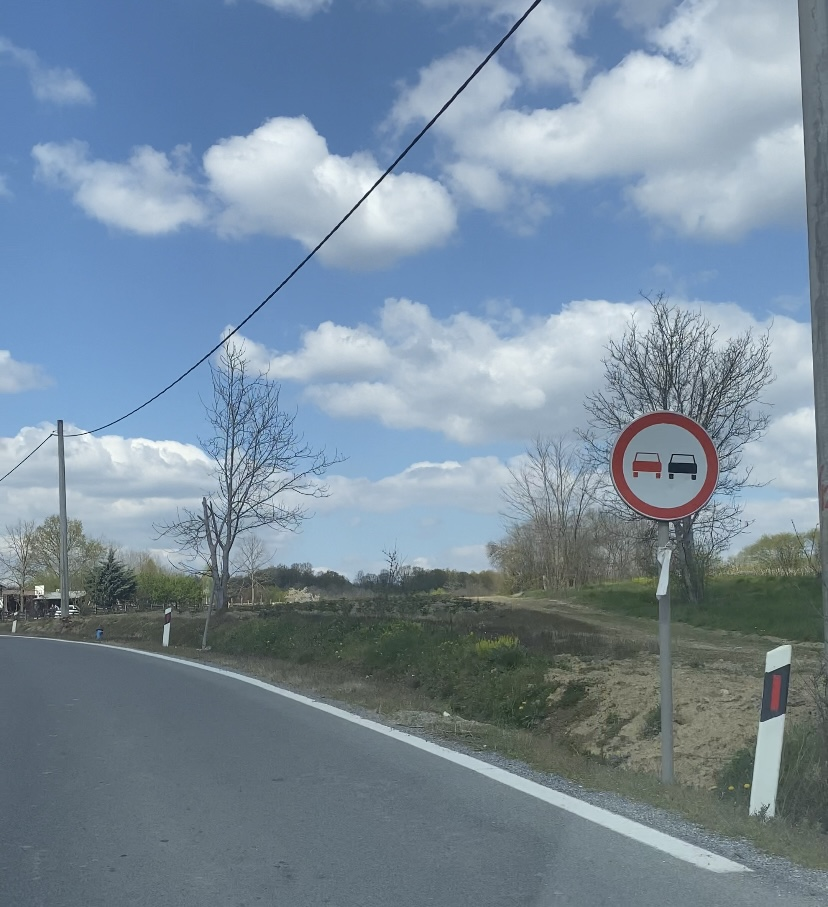Zabrana pretjecanja: (610, 410, 720, 521)
